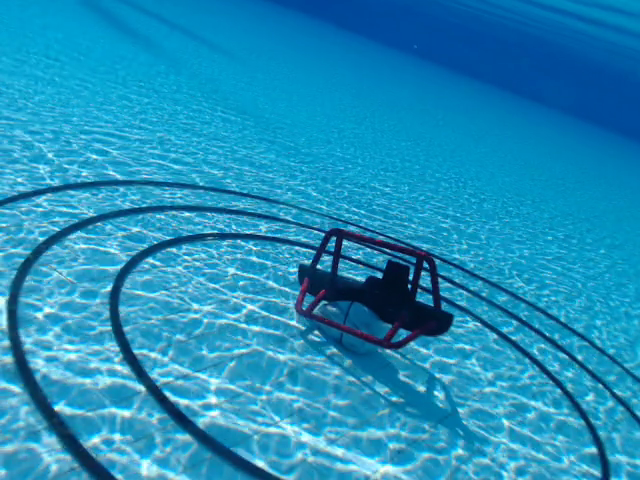submarine: (294, 225, 458, 352)
